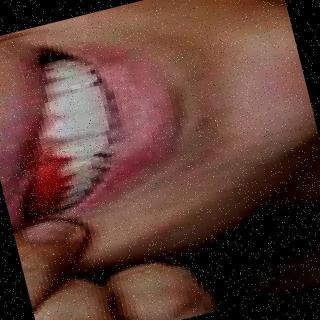Gum Swelling: (32, 153, 64, 217)
